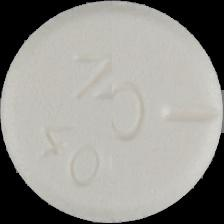0904-3365: (0, 0, 224, 224)
